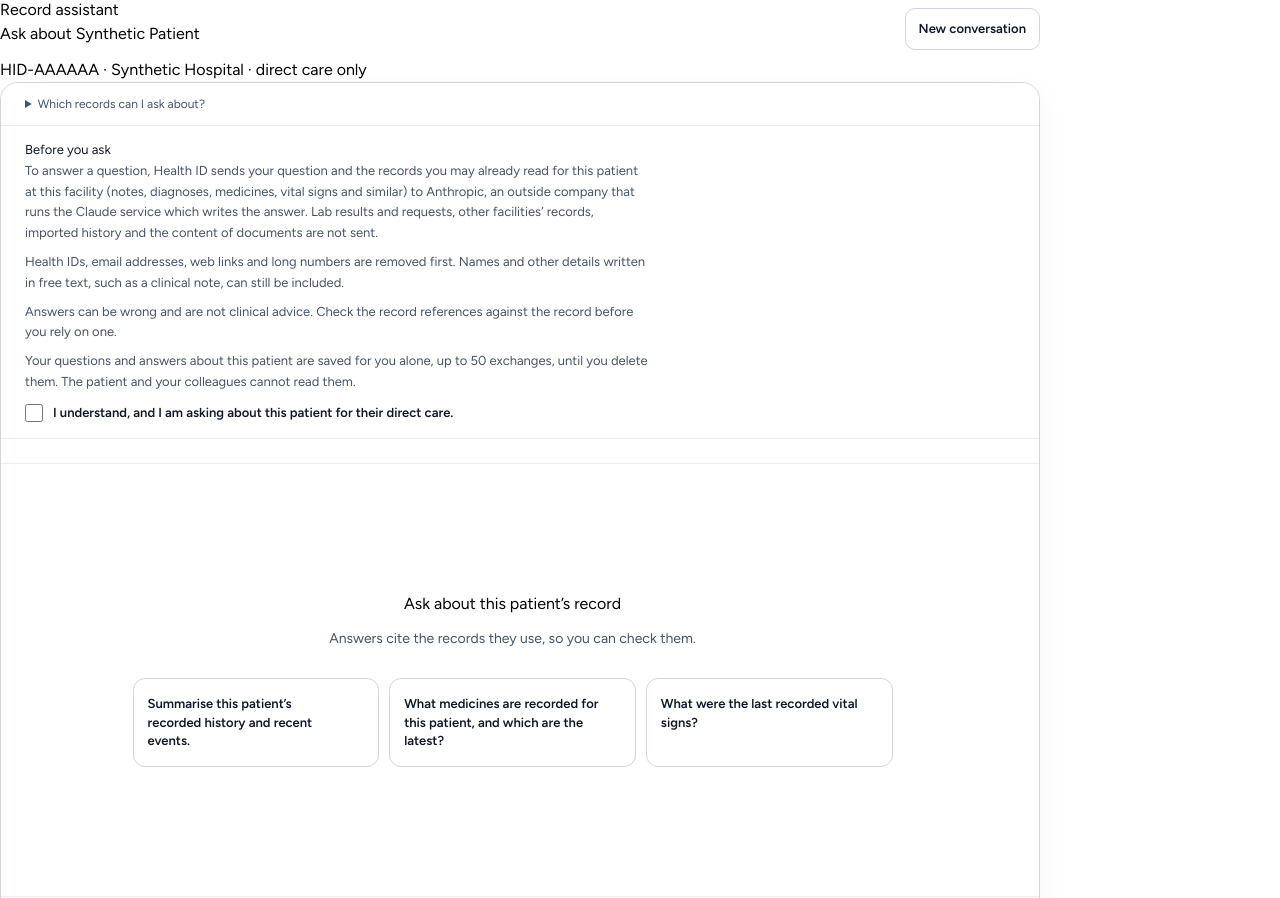
Test: StaffRecordChat › sends the question with the notice version and an Idempotency-Key, and shows the answer with its references
Expected: the heading "Before you ask" is shown, [25,142,111,157]
Click the checkbox labelled "I understand".
click(34, 413)  # box [25,404,43,422]
(page scrolled)
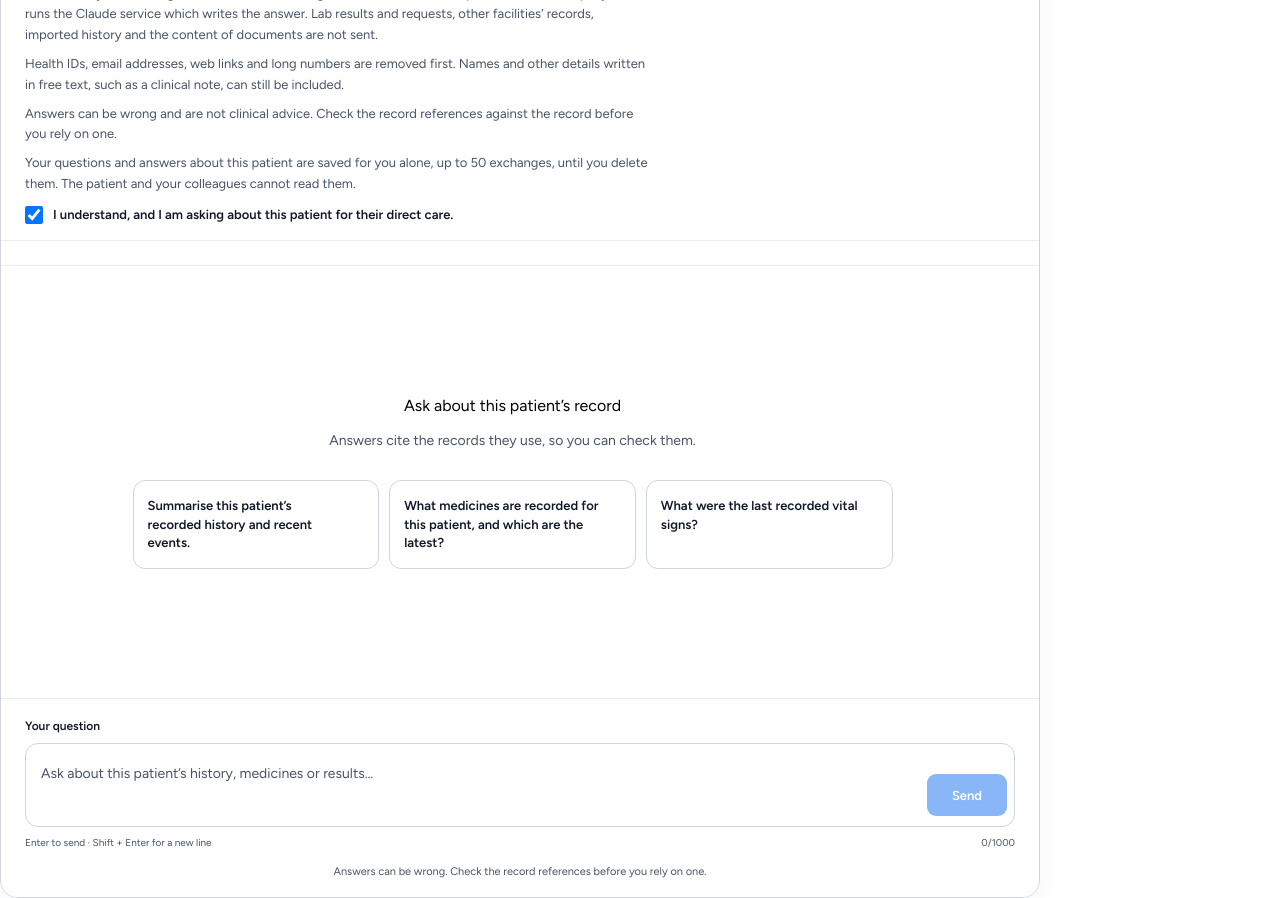
Type "  What was the blood pressure?  " into the text box labelled "Your question".
click(475, 785); type("  What was the blood pressure?  ")  # box [33,751,917,819]
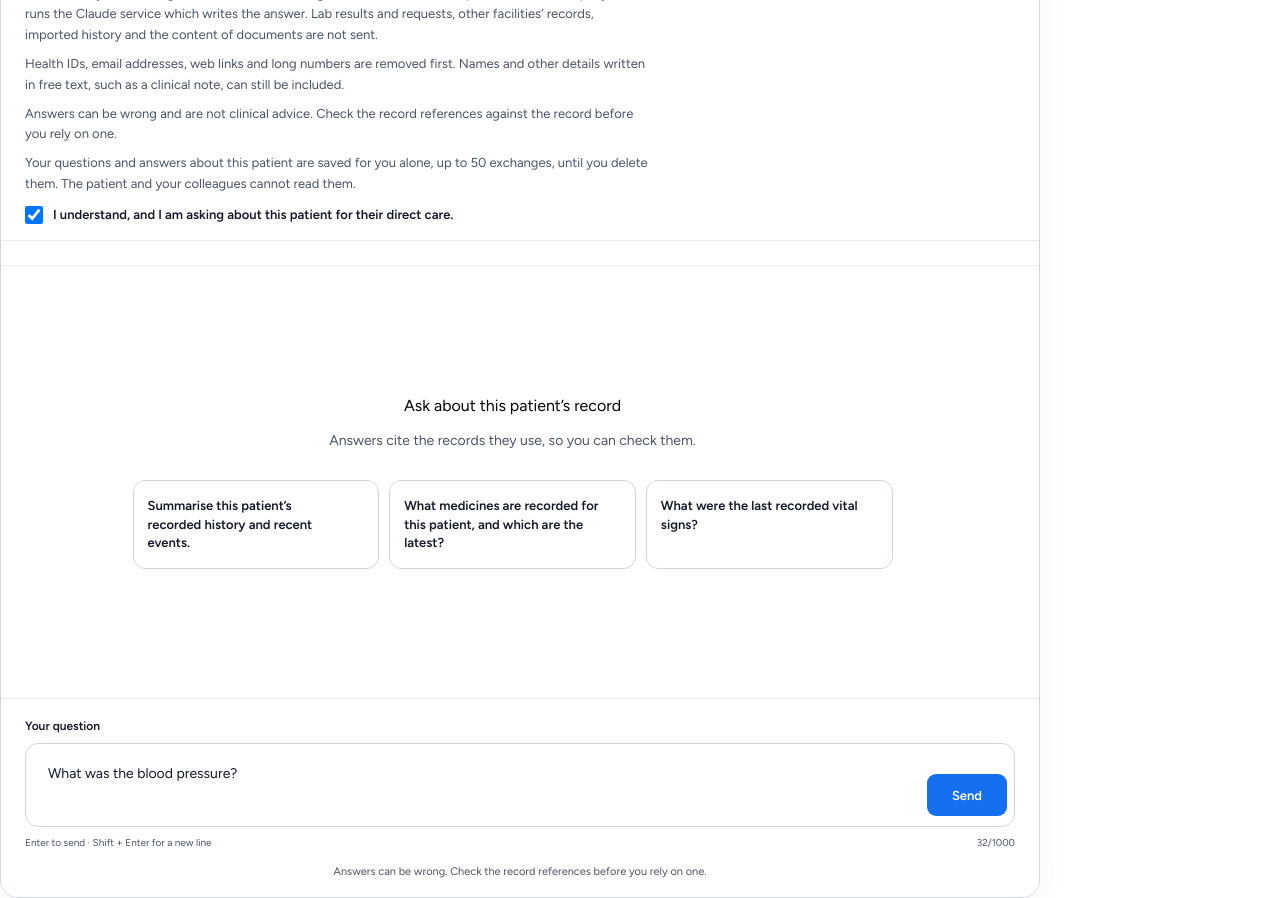
Click the button "Send".
click(967, 795)  # box [927,774,1007,816]
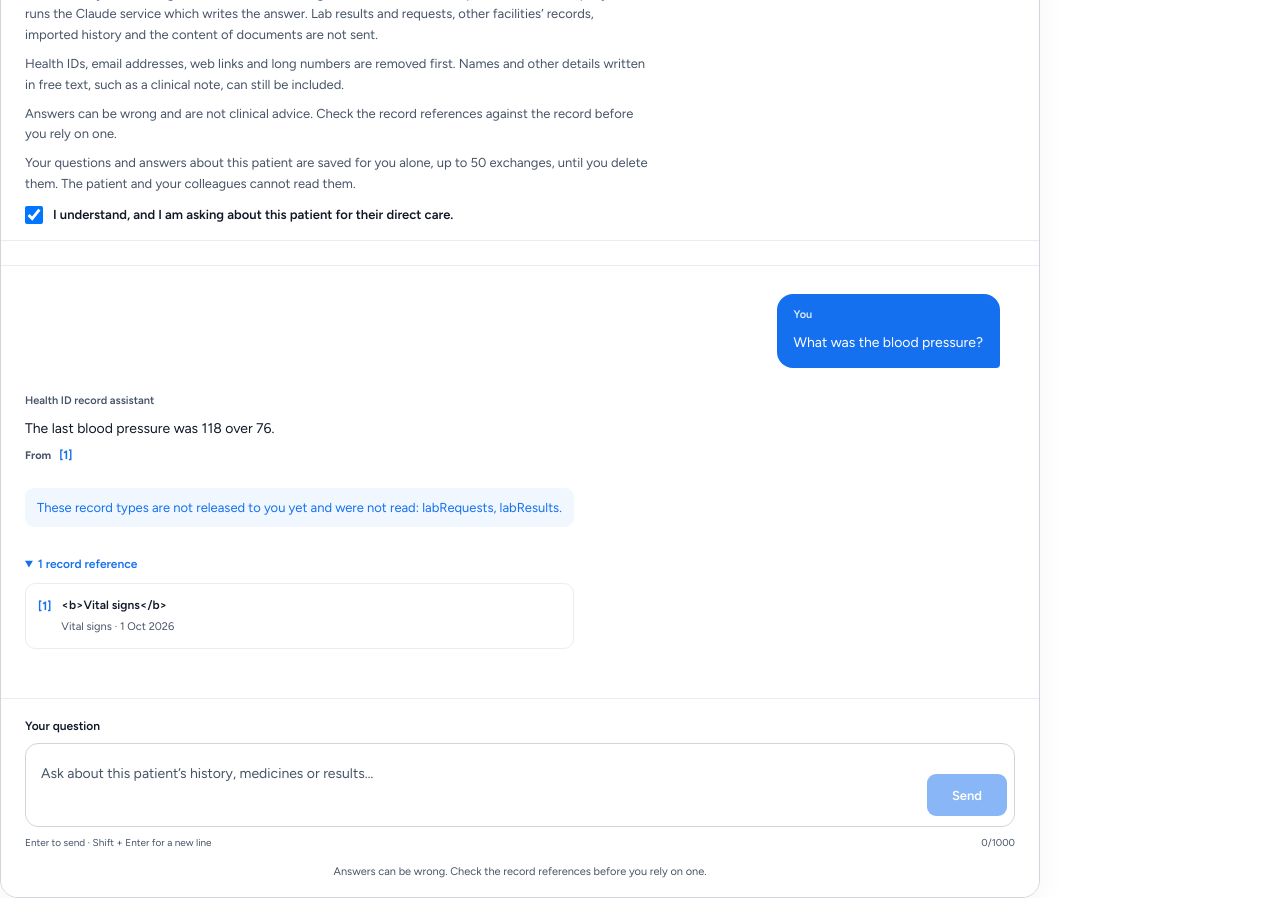
Expected: the text "The last blood pressure was 118 over 76." is shown, [25,420,274,437]
Expected: the text "What was the blood pressure?" is shown, [794,331,983,355]
Expected: the link named "Record reference 1" is shown, [59,448,72,462]
